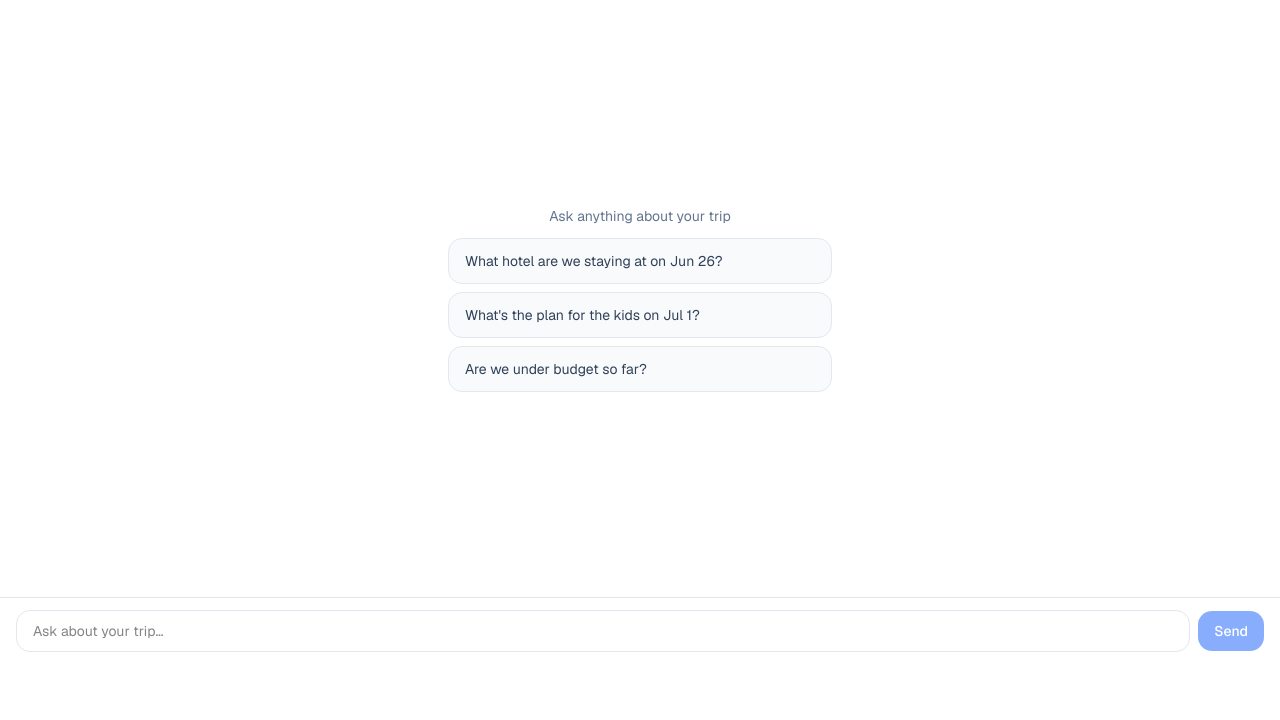
Test: accumulates streamed tokens into the assistant message
Type "Where are we staying?" into the field at (603, 631), box [16,610,1190,652]
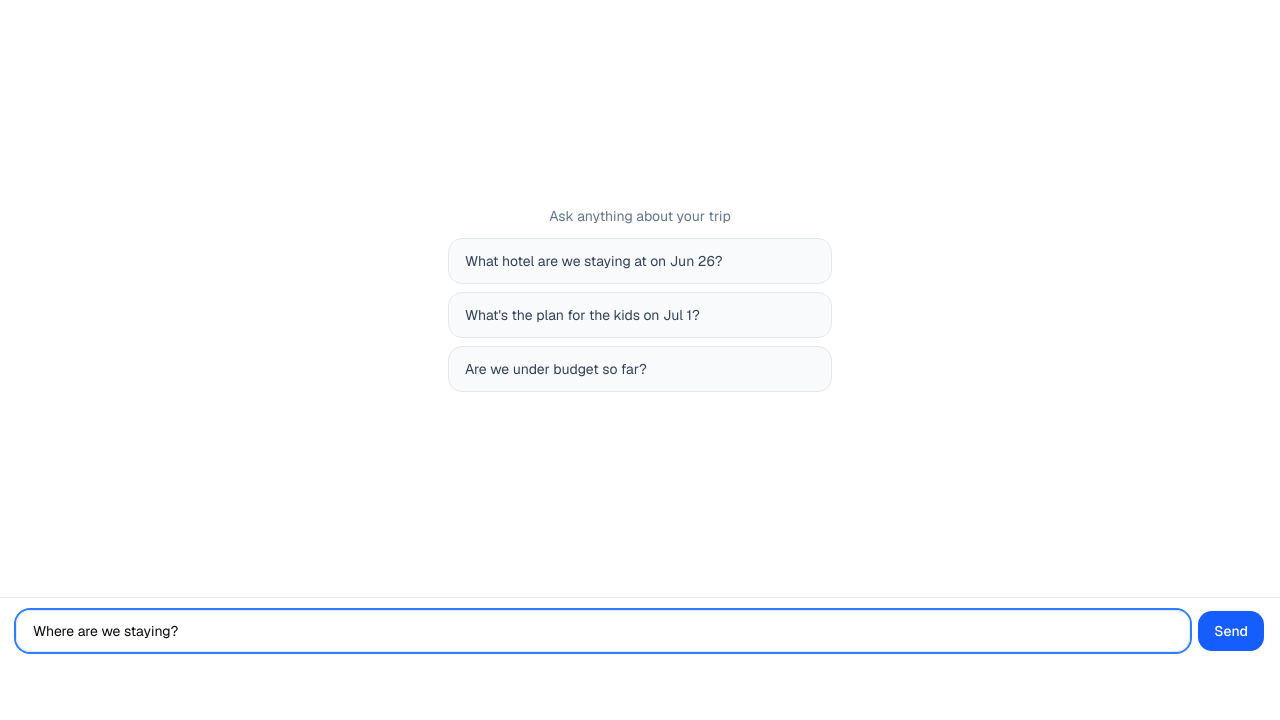
Click the button "Send" at (1231, 631), box [1198,611,1264,651]
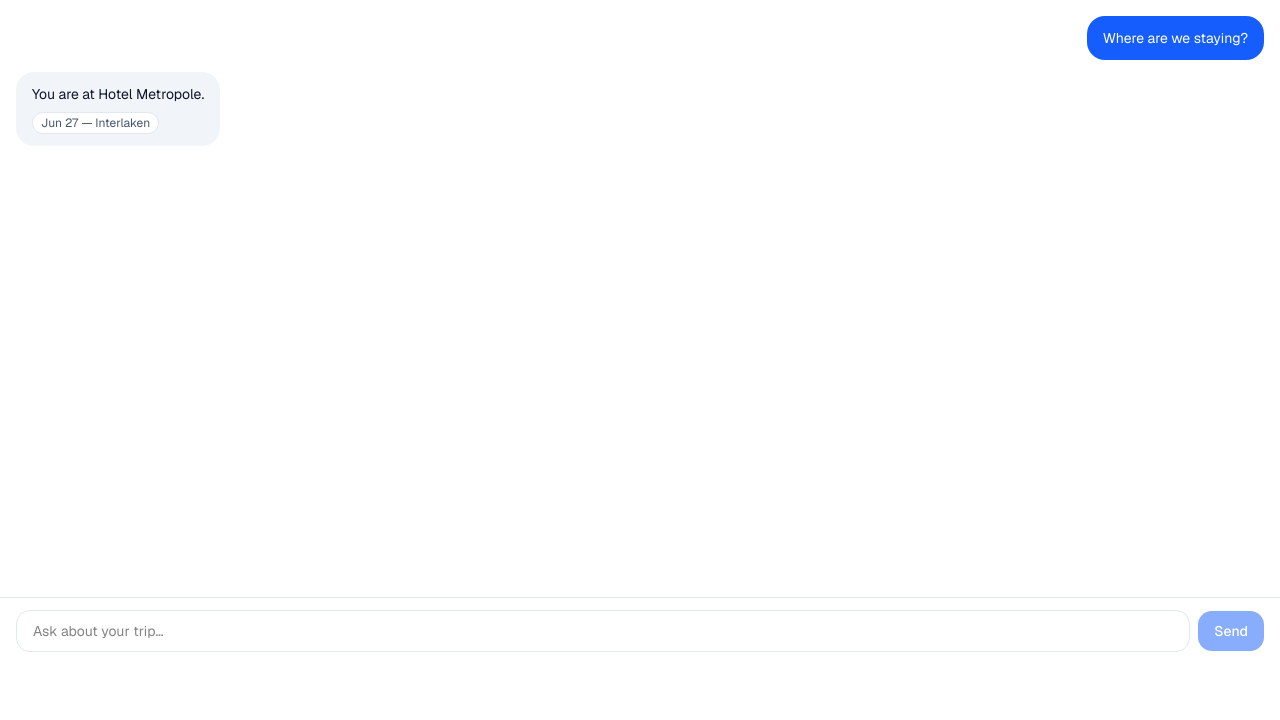
Expected: the text "You are at Hotel Metropole." is shown, [32,84,204,104]
